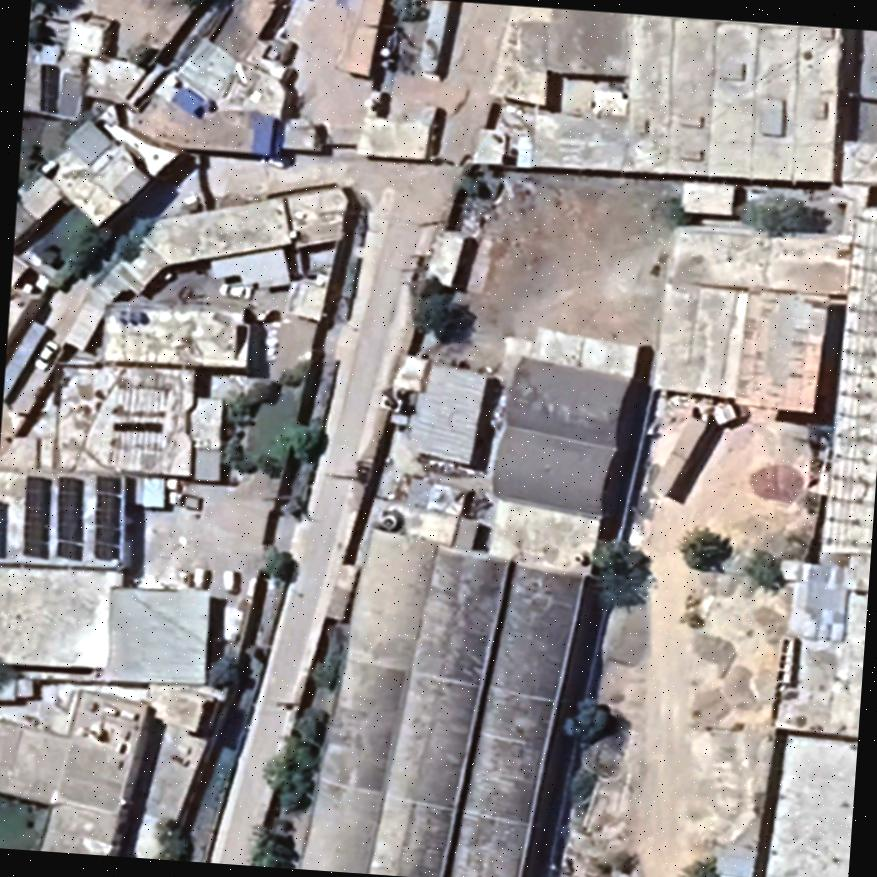Solarpanel: (21, 473, 51, 560), (92, 474, 121, 561), (55, 475, 84, 561), (38, 60, 59, 114), (0, 500, 7, 558)
